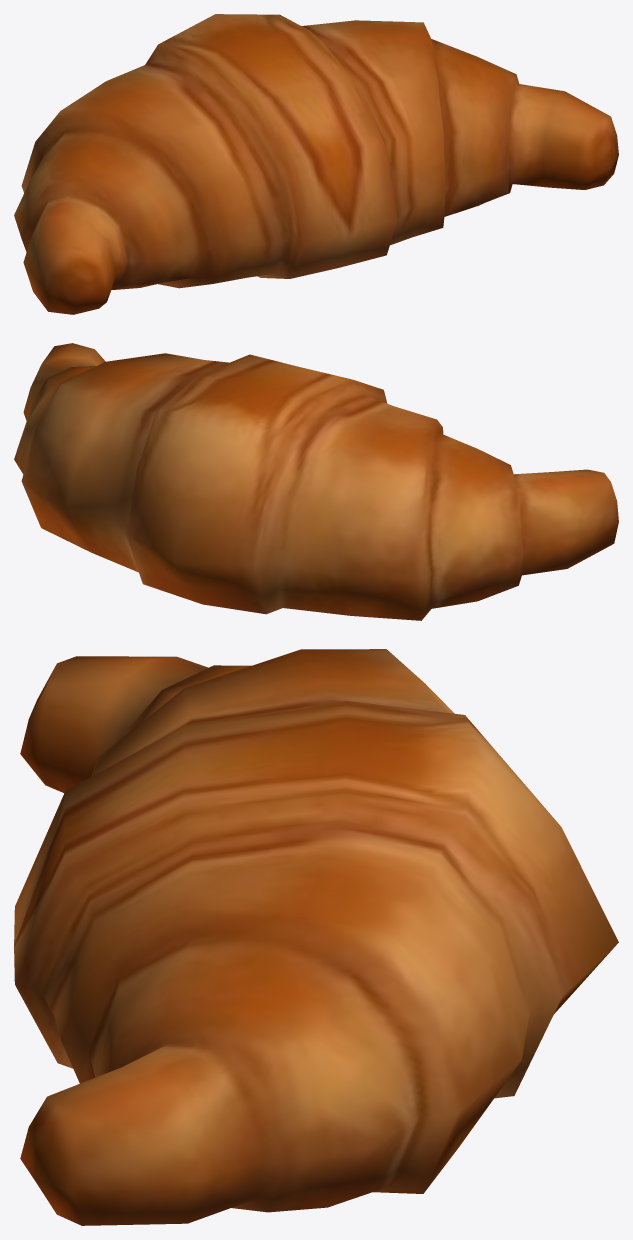
Rendered from croissant.glb.
3 renders of one model, top to bottom at view 1: azimuth 30°, elevation 25°; view 2: azimuth 150°, elevation 25°; view 3: azimuth 270°, elevation 25°, orthographic. The views are drawn at different scales.
Visible parts, largest first — view 1: croissant; view 2: croissant; view 3: croissant.
Part boxes in pixels (x1,y1,x2,y2): croissant: (14, 14, 618, 314); croissant: (14, 343, 618, 620); croissant: (14, 649, 618, 1225).
Size of the model in its own units: 0.4328 by 0.1382 by 0.2327.
Materials: 1 (1 with a texture image).
